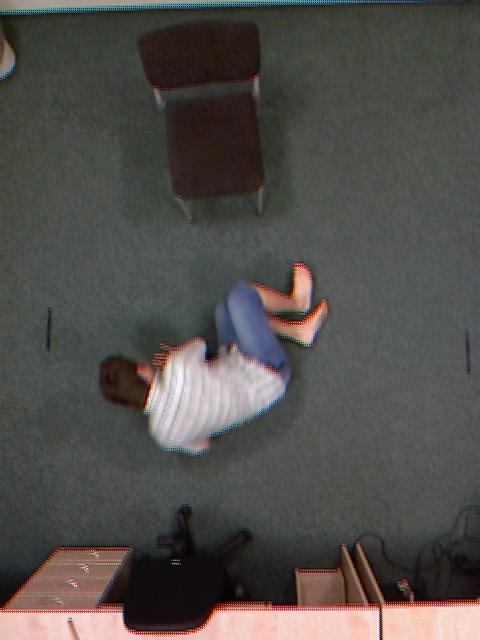fall: (135, 201, 287, 522)
